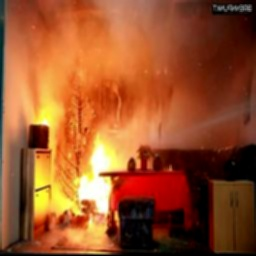fire: (69, 122, 125, 212)
smoke: (92, 8, 208, 103)
